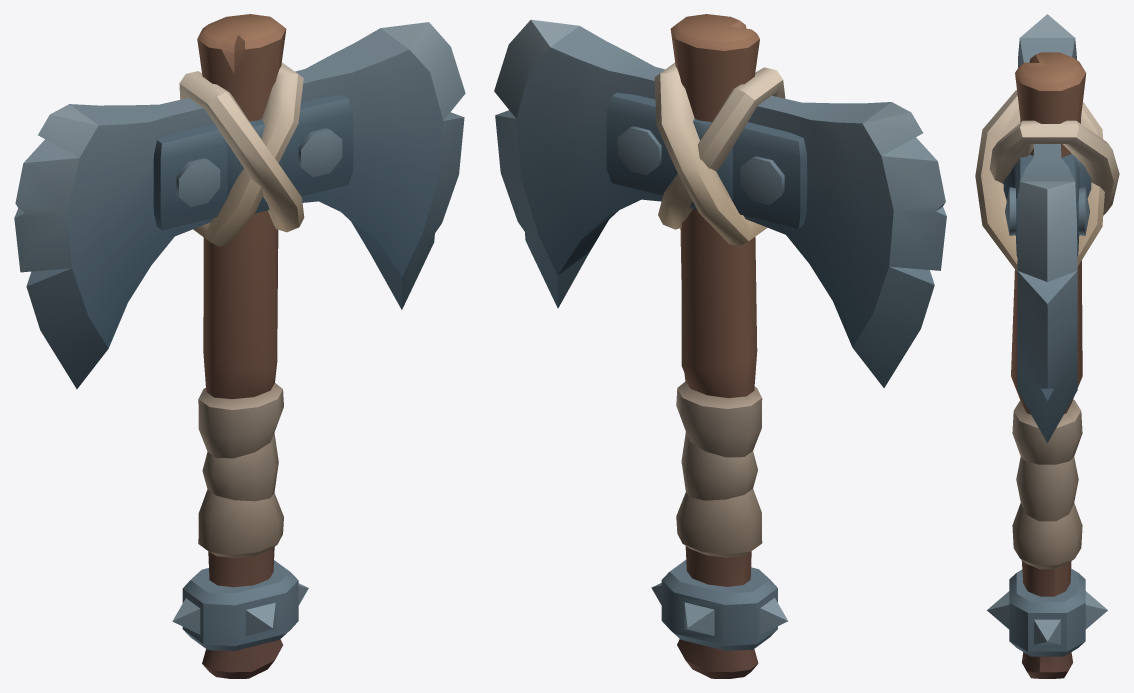
Rendered from axe_A.glb.
3 renders of one model, left to right at view 1: azimuth 30°, elevation 25°; view 2: azimuth 150°, elevation 25°; view 3: azimuth 270°, elevation 25°, orthographic. The views are drawn at different scales.
Parts seen in each view (by area): view 1: axe_A; view 2: axe_A; view 3: axe_A.
Boxes of the visible parts, <box> form: axe_A: <box>14,14,465,678</box>; axe_A: <box>494,14,946,678</box>; axe_A: <box>975,14,1119,678</box>.
Bounding box in the file's own units: 0.8558 × 1.16 × 0.2504.
Materials: 1 (1 with a texture image).
